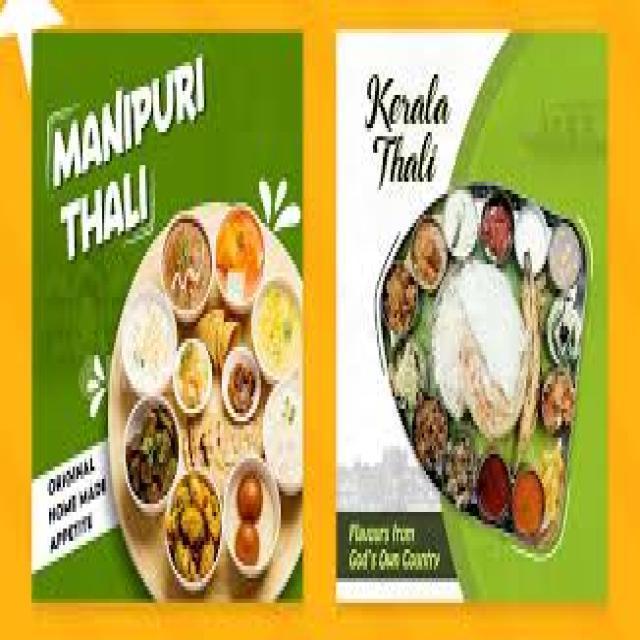papad: (180, 389, 239, 482), (188, 301, 250, 386)
rice: (433, 266, 528, 434)
roti: (181, 392, 241, 483)
sambar-rasam: (510, 466, 548, 534)
sweet: (219, 458, 282, 577), (510, 465, 549, 536)
veg-fry: (402, 213, 448, 296)
